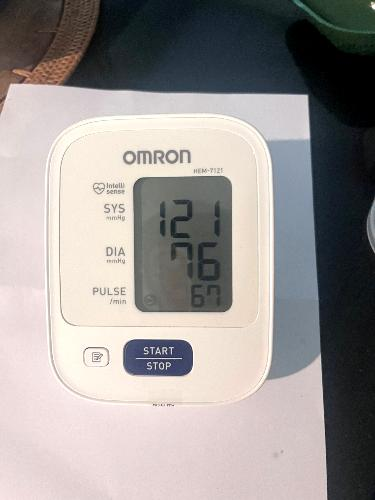bpm: (134, 176, 234, 314)
